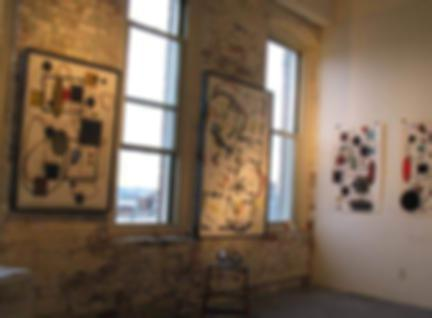Otro Obstaculo: (198, 256, 248, 317)
